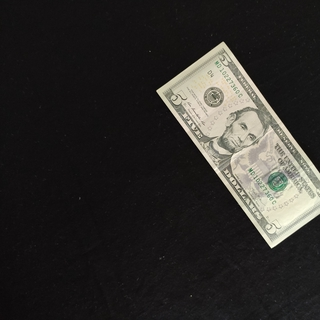5USDFront: (155, 41, 320, 249)
